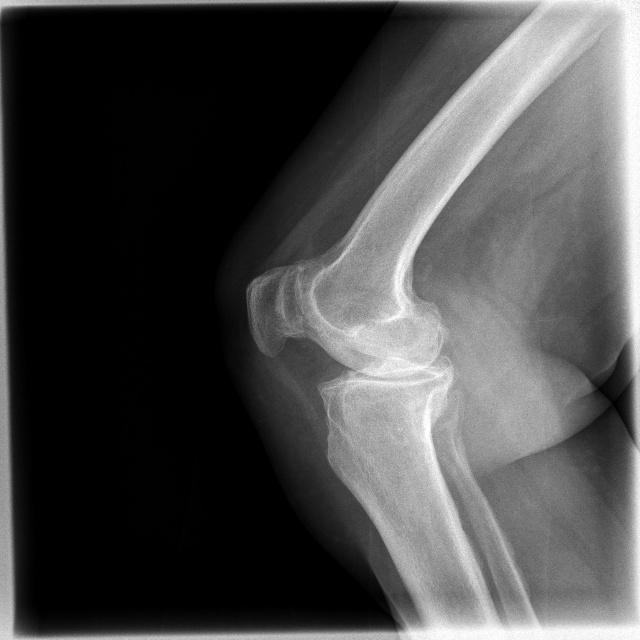Knee: (241, 254, 453, 459)
